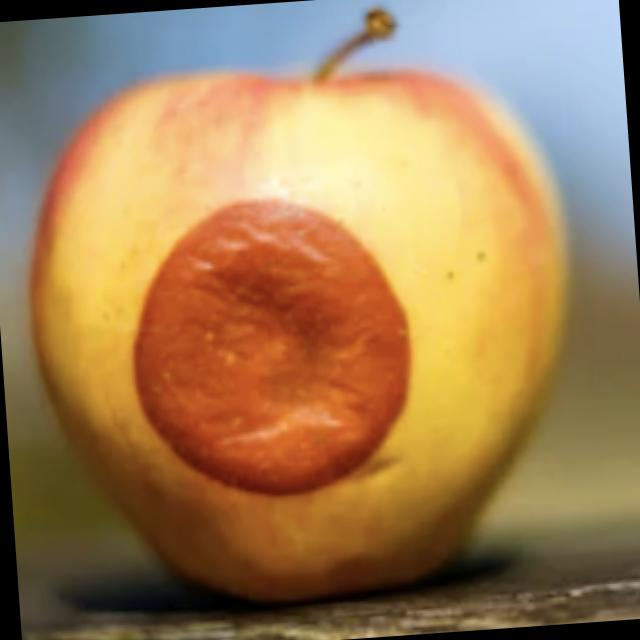rotten_apple: (17, 16, 592, 615)
